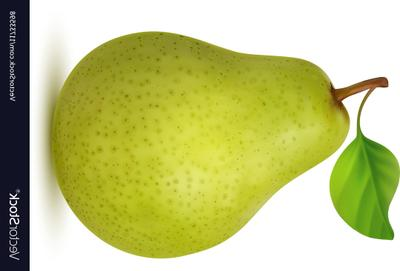pear: (0, 0, 400, 271)
